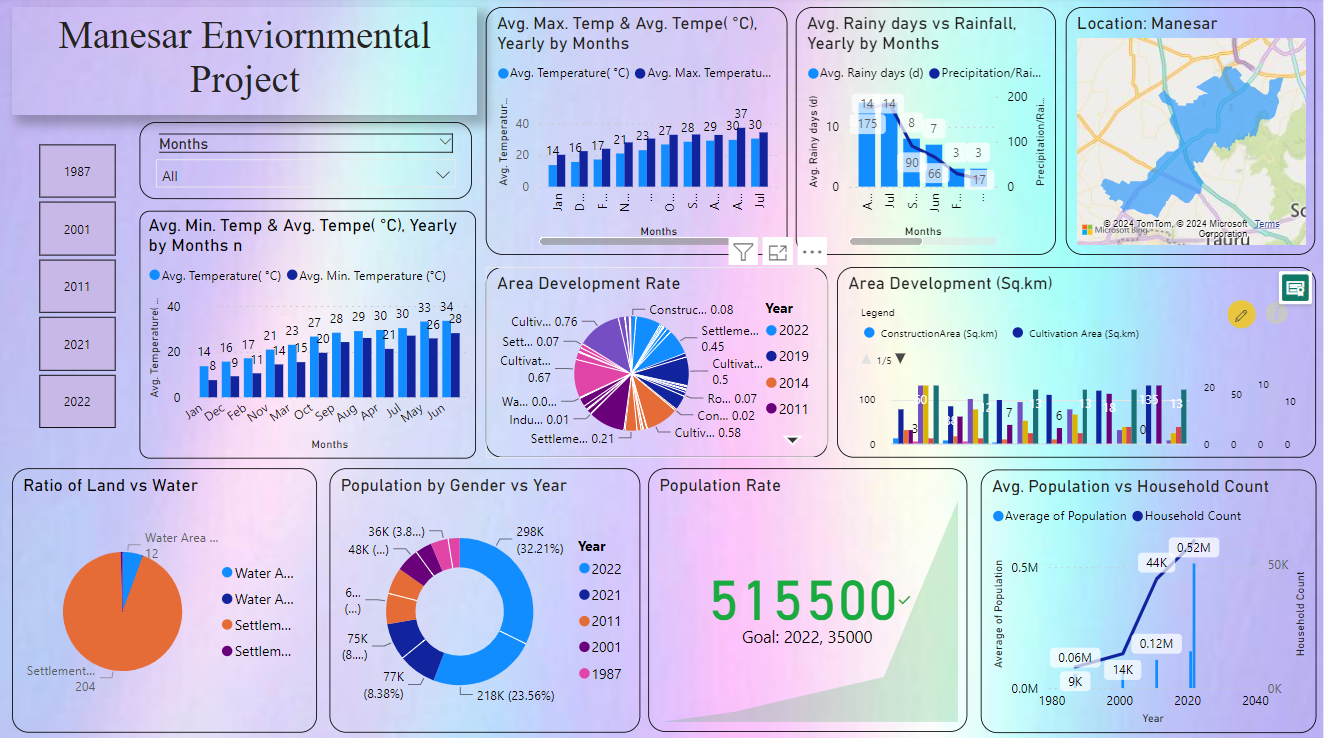

The page's visual inventory and layout, read from the dashboard file:
{"tool":"powerbi","page":{"name":"Page 1","canvas":[1280,720],"ordinal":0},"visuals":[{"type":"filledMap","title":"Location: Manesar","fields":{"Category":["Population.Location"]},"box":[1032,10,241,239],"z":0},{"type":"textbox","box":[14,10,449,104],"z":1000},{"type":"clusteredColumnChart","title":"Avg. Min. Temp & Avg. Tempe( °C), Yearly by Months n","fields":{"Category":["Weather.Months"],"Y":["Sum(Weather.Avg. Temperature( °C))","Sum(Weather.Avg. Min. Temperature (°C))"]},"box":[138,206,325,239],"z":2000},{"type":"clusteredColumnChart","title":"Avg. Max. Temp & Avg. Tempe( °C), Yearly by Months ","fields":{"Category":["Weather.Months"],"Y":["Sum(Weather.Avg. Temperature( °C))","Sum(Weather.Avg. Max. Temperature( °C))"]},"box":[472,10,291,239],"z":3000},{"type":"lineStackedColumnComboChart","title":"Avg. Rainy days vs Rainfall, Yearly by Months","fields":{"Category":["Weather.Months"],"Y":["Sum(Weather.Avg. Rainy days (d))"],"Y2":["Sum(Weather.Precipitation/Rainfall (mm) )"]},"box":[771,10,251,239],"z":4000},{"type":"lineClusteredColumnComboChart","title":"Avg. Population vs  Household Count ","fields":{"Y":["Avg(Population.Population)"],"Y2":["Sum(Population.Household Count)"],"Category":["Population.Year"]},"box":[949.1,456.4,323.6,254.5],"z":5000},{"type":"pieChart","title":"Area Development Rate","fields":{"Category":["Enviornment.Year"],"Y":["Sum(Enviornment.Construction Area %)","Sum(Enviornment.Cultivation Area %)","Sum(Enviornment.Industrial Area %)","Sum(Enviornment.Natural Vegetation %)","Sum(Enviornment.Recreational Area %)","Sum(Enviornment.Road Area %)","Sum(Enviornment.Rock Area %)","Sum(Enviornment.Settlement Area %)","Sum(Enviornment.Water Area %)"]},"box":[472,261,330,184],"z":6000},{"type":"multipleAxesChartBC35C88E1D1A49DFA5A9240AFBB4E3BC","title":"Area Development (Sq.km)","fields":{"value1":["Sum(Enviornment.ConstructionArea (Sq.km))","Sum(Enviornment.Cultivation Area (Sq.km))"],"value2":["Sum(Enviornment.Industrial Area (Sq.km))","Sum(Enviornment.Natural Vegetation (Sq.km))"],"value3":["Sum(Enviornment.Recreational Area (Sq.km))","Sum(Enviornment.Settlement Area (Sq.km))"],"value4":["Sum(Enviornment.Road Area (Sq.km))","Sum(Enviornment.Water Area (Sq.km))"],"value5":["Sum(Enviornment.Rock Area (Sq.km))"],"category":["Enviornment.Year"]},"box":[811,261,462,184],"z":7000},{"type":"donutChart","title":"Population by Gender vs Year","fields":{"Y":["Sum(Population.Male)","Sum(Population.Female)"],"Category":["Population.Year"]},"box":[321,455,300,255],"z":8000},{"type":"kpi","title":"Population Rate","fields":{"TrendLine":["Population.Population Growth"],"Indicator":["Sum(Population.Population)"],"Goal":["Sum(Population.Year)","Population.Target"]},"box":[629,455,308,254],"z":9000},{"type":"slicer","fields":{"Values":["Population.Year"]},"box":[14,135,124,288],"z":10000},{"type":"slicer","fields":{"Values":["Weather.Months"]},"box":[138,121,321,74],"z":11000},{"type":"pieChart","title":"Ratio of Land vs Water ","fields":{"Y":["Sum(Enviornment.Water Area (Sq.km))","Sum(Enviornment.Water Area %)","Sum(Enviornment.Settlement Area (Sq.km))","Sum(Enviornment.Settlement Area %)"]},"box":[14,455,294,255],"z":12000}]}

Visuals, with their boxes in screenshot pixels (x1, y1, x2, y2), scaled from the page's 1280x720 canvas onto the 1324x738 screenshot:
"Location: Manesar" filledMap: 1067/10/1317/255
textbox: 14/10/479/117
"Avg. Min. Temp & Avg. Tempe( °C), Yearly by Months n" clusteredColumnChart: 143/211/479/456
"Avg. Max. Temp & Avg. Tempe( °C), Yearly by Months " clusteredColumnChart: 488/10/789/255
"Avg. Rainy days vs Rainfall, Yearly by Months" lineStackedColumnComboChart: 798/10/1057/255
"Avg. Population vs  Household Count " lineClusteredColumnComboChart: 982/468/1316/729
"Area Development Rate" pieChart: 488/268/830/456
"Area Development (Sq.km)" multipleAxesChartBC35C88E1D1A49DFA5A9240AFBB4E3BC: 839/268/1317/456
"Population by Gender vs Year" donutChart: 332/466/642/728
"Population Rate" kpi: 651/466/969/727
slicer - Population.Year: 14/138/143/434
slicer - Weather.Months: 143/124/475/200
"Ratio of Land vs Water " pieChart: 14/466/319/728
